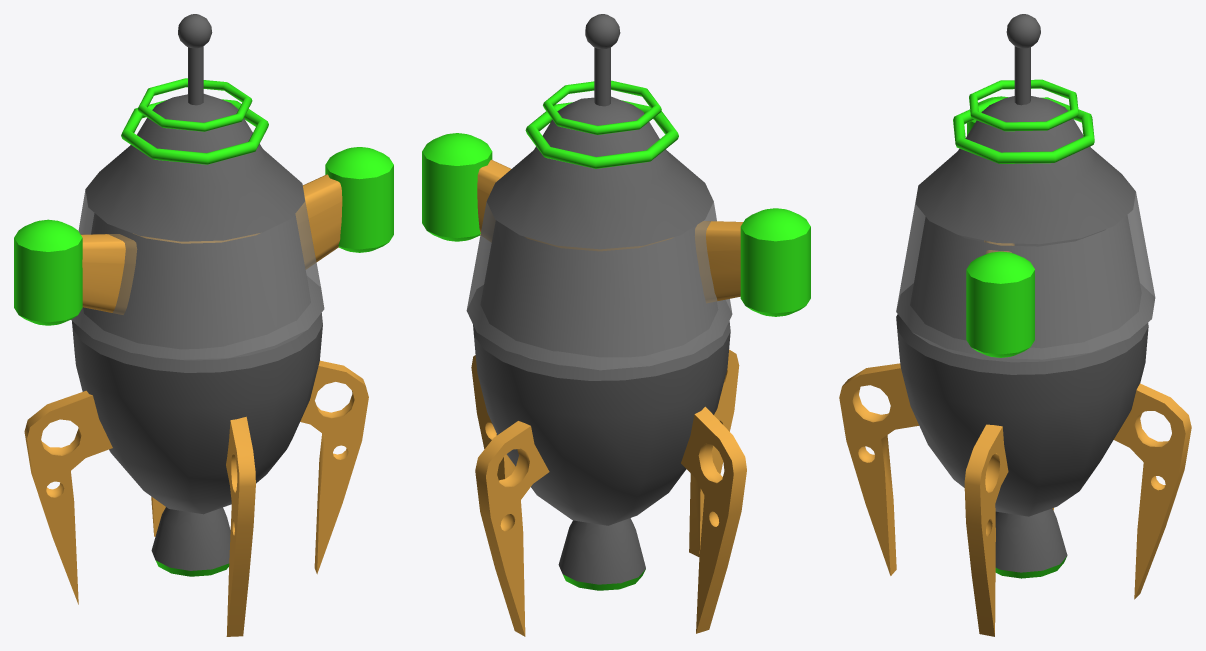
Rendered from Rocketship.fbx.
3 views of the same model, side by side, from view 1: azimuth 30°, elevation 25°; view 2: azimuth 150°, elevation 25°; view 3: azimuth 270°, elevation 25° (orthographic). The views are drawn at different scales.
Parts seen in each view (by area): view 1: Head, Body, Boosters, SideLegs, FrontLegs; view 2: Head, Body, Boosters, FrontLegs, SideLegs; view 3: Head, Body, FrontLegs, Boosters, SideLegs.
Boxes of the visible parts, x1,y1,x2,y2 form: Head: (71,14,324,359); Body: (72,313,322,576); Boosters: (14,147,393,325); SideLegs: (24,360,368,604); FrontLegs: (151,416,255,636); Head: (466,14,732,370); Body: (473,321,730,590); Boosters: (422,133,810,316); FrontLegs: (475,349,739,636); SideLegs: (471,355,746,633); Head: (896,14,1155,359); Body: (896,314,1148,578); FrontLegs: (839,363,1191,599); Boosters: (966,96,1034,357); SideLegs: (964,424,1053,636).
Size of the model in its own units: 97.46 by 80.06 by 143.
